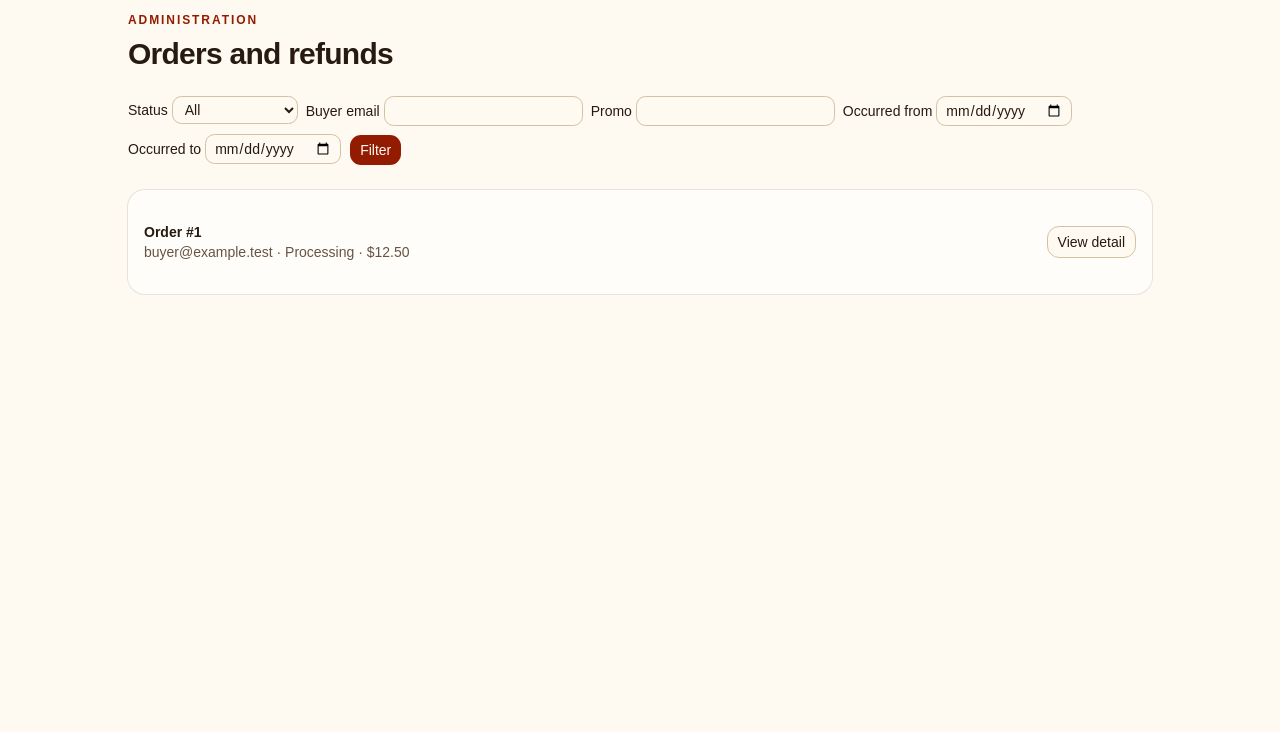
Test: AdminOrdersPage › blocks a refund that exceeds the prior-refund remaining balance
Click the button "View detail". click: click(1091, 242)
box: [1046,226,1136,258]
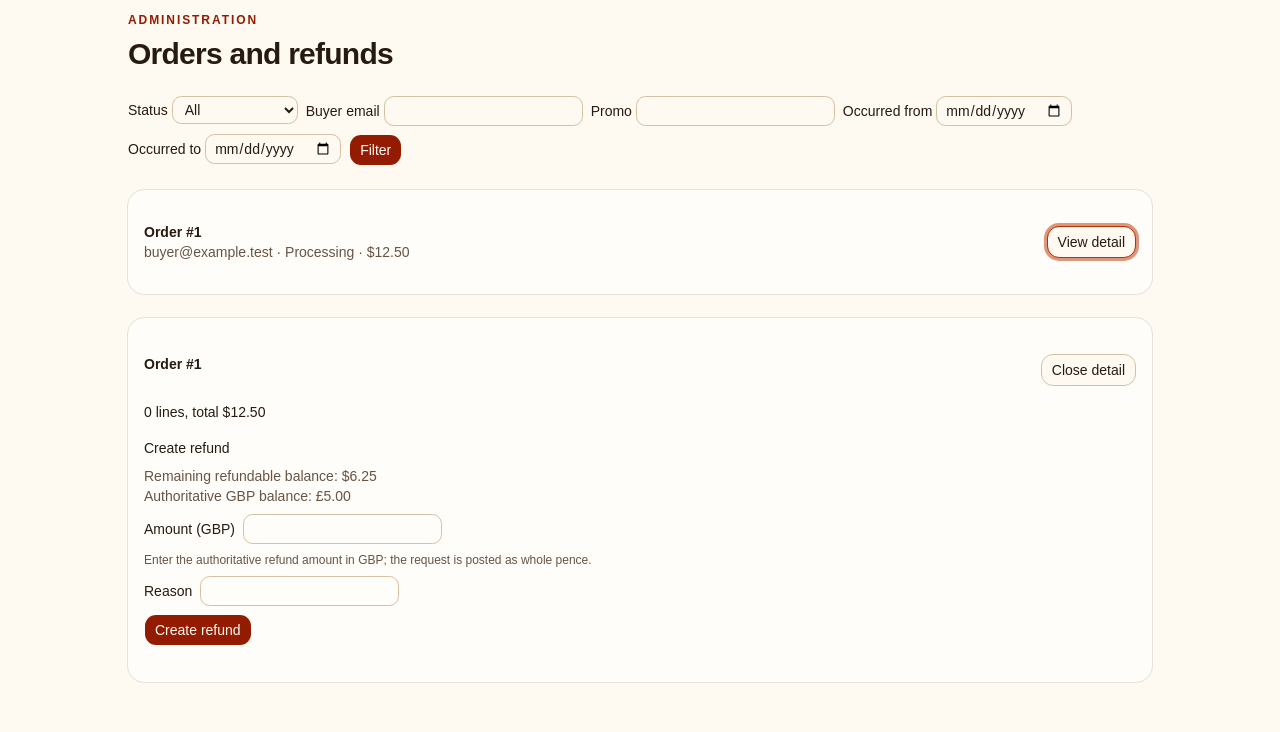
Now the heading "Create refund" is shown, box [144,440,230,456]
Type "5.01" into the number field. click: (342, 529)
box: [243,514,442,544]
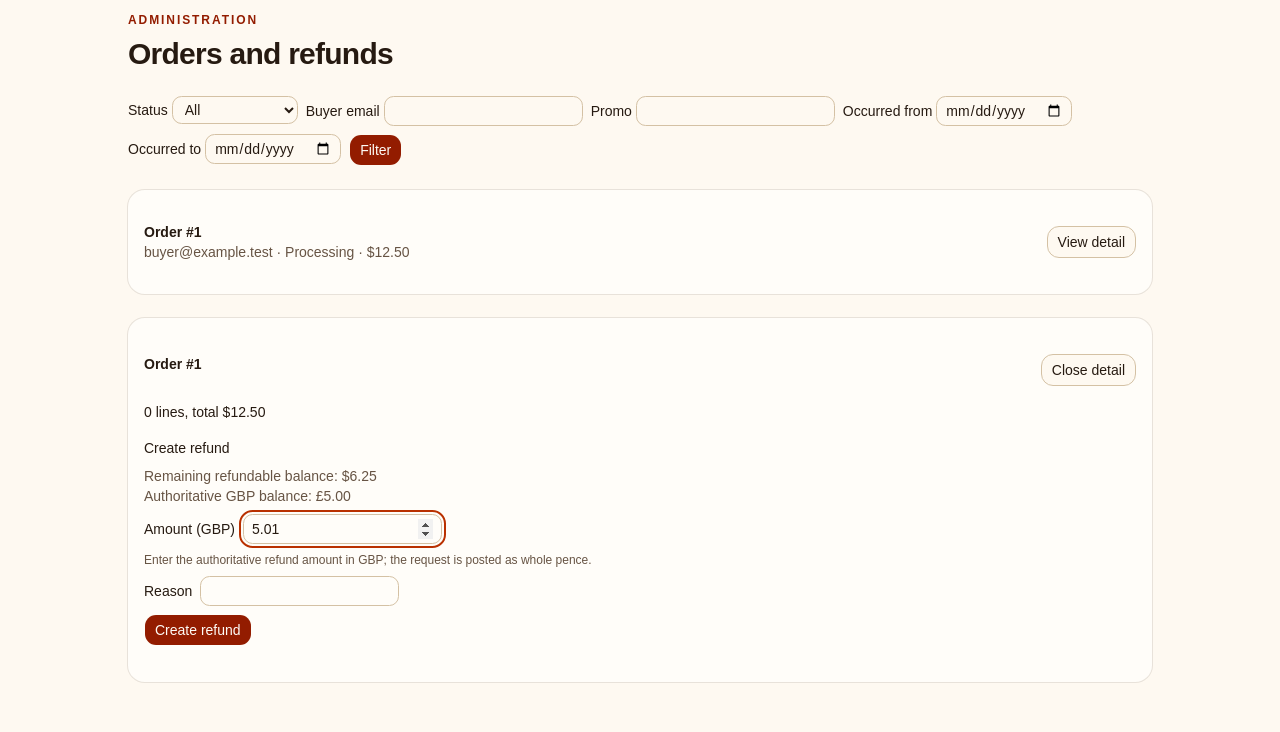
Type "Over remaining balance" into the field labelled "Reason". click: (300, 591)
box: [200,576,399,606]
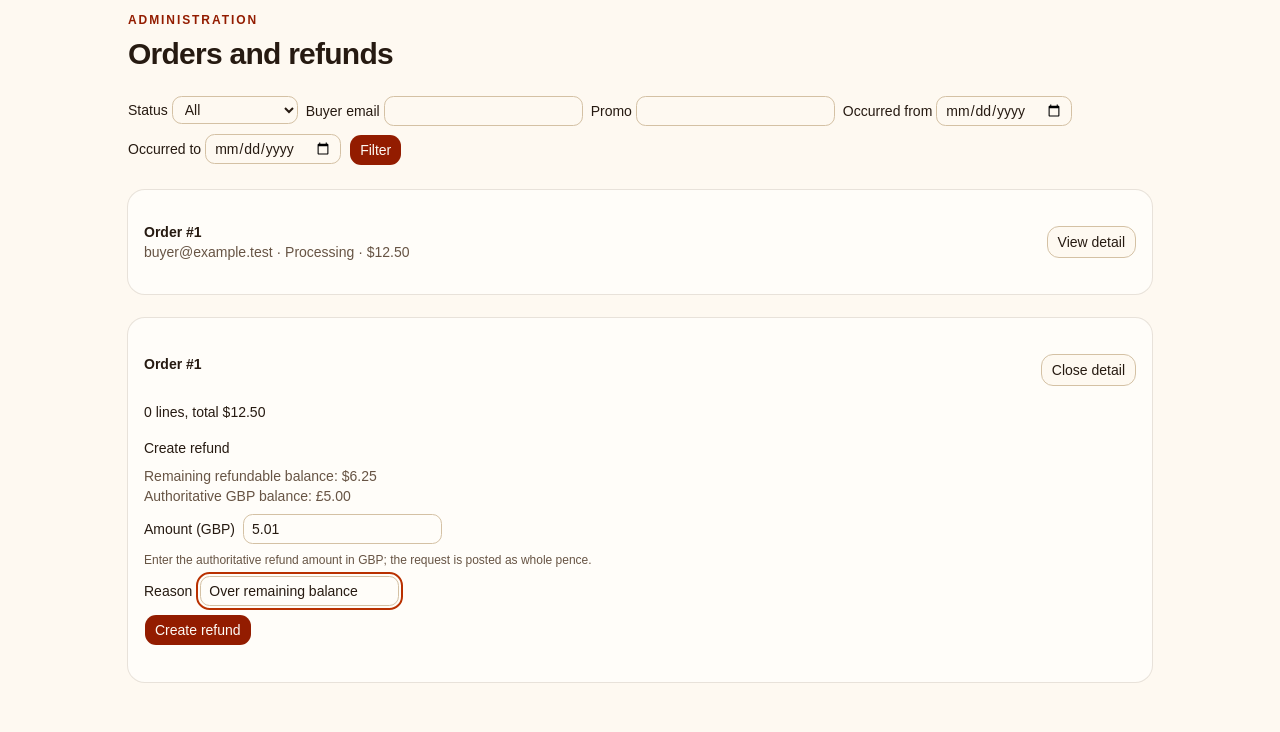
Click the button "Create refund". click: click(198, 630)
box: [144,614,252,646]
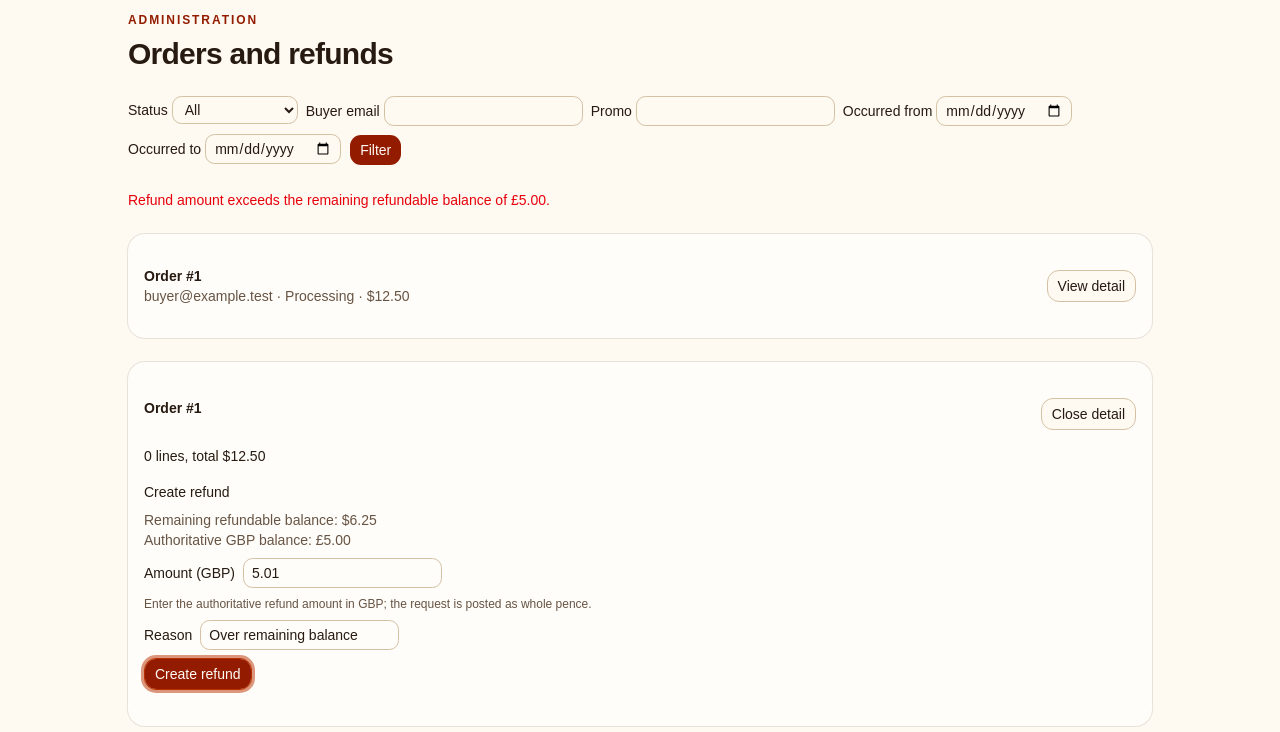
Now the message reads "Refund amount exceeds the remaining refundable balance of £5.00.", box [128,192,550,208]
